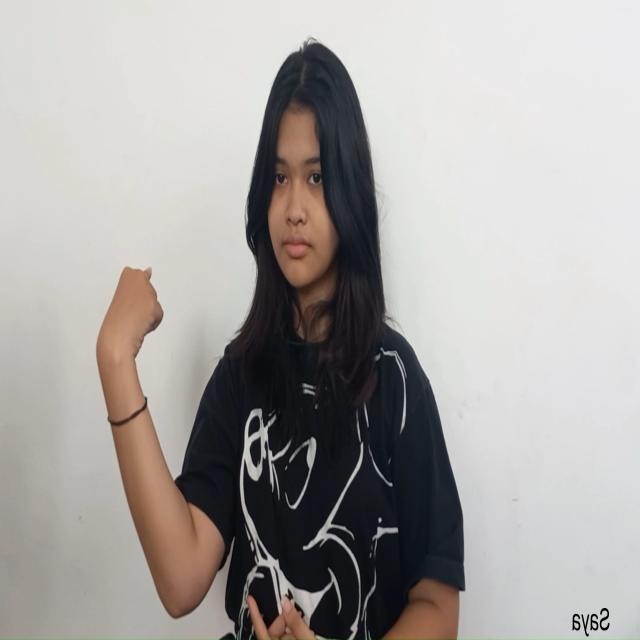Saya -BISINDO-: (93, 260, 167, 392)
